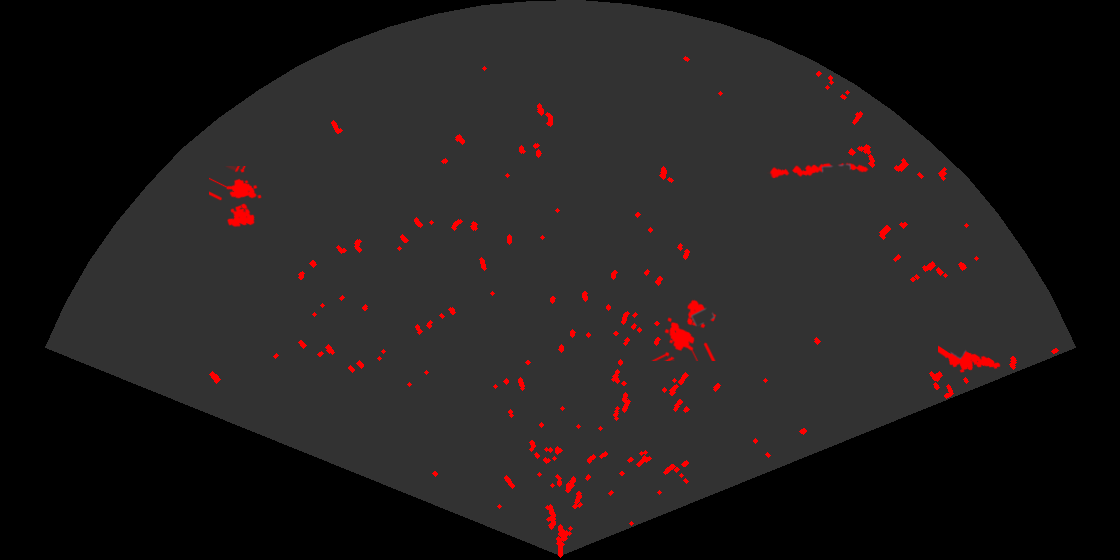cage: (650, 298, 718, 361), (209, 166, 263, 229)
chain: (767, 161, 870, 180)
frogman: (938, 344, 1002, 374)
